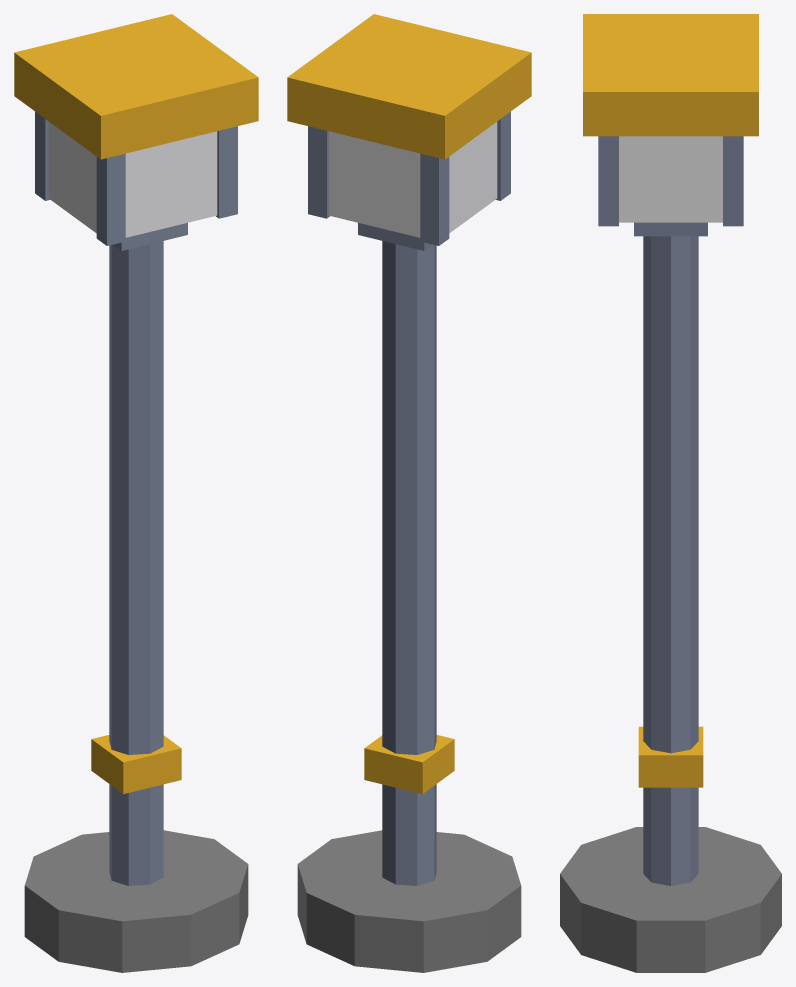
Rendered from lamp_post.glb.
3 renders of one model, left to right at view 1: azimuth 30°, elevation 25°; view 2: azimuth 150°, elevation 25°; view 3: azimuth 270°, elevation 25°, orthographic.
Parts seen in each view (by area): view 1: lamp_post; view 2: lamp_post; view 3: lamp_post.
Boxes of the visible parts, <box> form: lamp_post: <box>14,14,258,972</box>; lamp_post: <box>287,14,531,972</box>; lamp_post: <box>560,14,781,972</box>.
Bounding box in the file's own units: 0.5 × 2.17 × 0.5.
